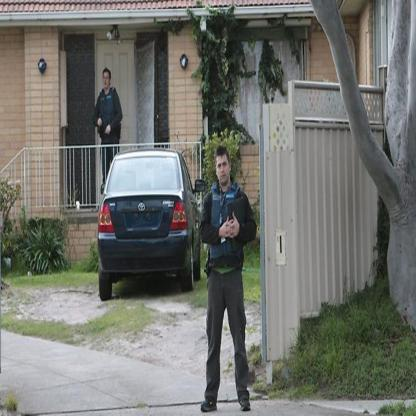face: (217, 156, 230, 184), (104, 73, 109, 88)
